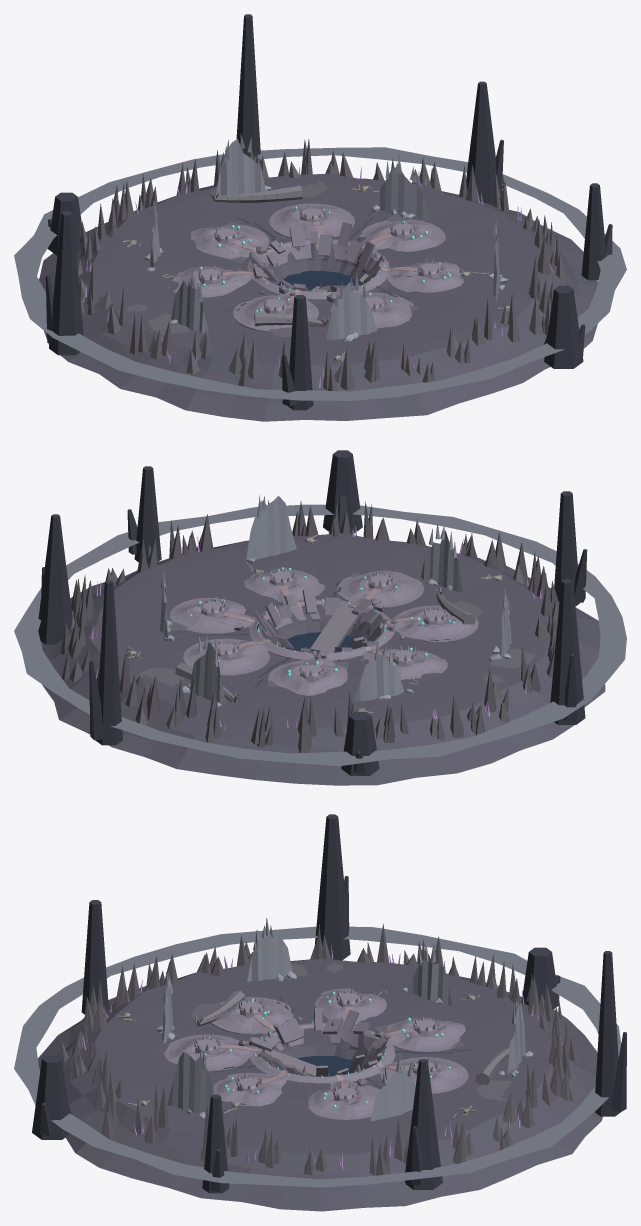
The model's file is arena_noctyss.glb.
3 views of the same model, one above another, from view 1: azimuth 30°, elevation 25°; view 2: azimuth 150°, elevation 25°; view 3: azimuth 270°, elevation 25° (orthographic).
Visible parts, largest first — view 1: NoctyssArena_Base, NoctyssArena_Stacks, NoctyssArena_Foam, NoctyssArena_Teeth, NoctyssArena_Mantle, NoctyssArena_Fins, NoctyssArena_Rim, NoctyssArena_Elders, NoctyssArena_DecoSilt, NoctyssArena_DecoPitWater, NoctyssArena_DecoVeins, NoctyssArena_GlowKelp; view 2: NoctyssArena_Base, NoctyssArena_Stacks, NoctyssArena_Foam, NoctyssArena_Teeth, NoctyssArena_Mantle, NoctyssArena_Fins, NoctyssArena_Rim, NoctyssArena_DecoSilt, NoctyssArena_Slab, NoctyssArena_Elders, NoctyssArena_DecoVeins, NoctyssArena_DecoPitWater; view 3: NoctyssArena_Base, NoctyssArena_Stacks, NoctyssArena_Teeth, NoctyssArena_Foam, NoctyssArena_Mantle, NoctyssArena_Fins, NoctyssArena_Rim, NoctyssArena_DecoSilt, NoctyssArena_Elders, NoctyssArena_DecoVeins, NoctyssArena_DecoPitWater, NoctyssArena_GlowKelp.
Boxes of the visible parts, left/top/right/bottom form: NoctyssArena_Base: left=38, top=174, right=597, bottom=421; NoctyssArena_Stacks: left=45, top=14, right=612, bottom=410; NoctyssArena_Foam: left=14, top=147, right=626, bottom=400; NoctyssArena_Teeth: left=77, top=139, right=566, bottom=391; NoctyssArena_Mantle: left=173, top=203, right=463, bottom=332; NoctyssArena_Fins: left=144, top=133, right=508, bottom=341; NoctyssArena_Rim: left=249, top=222, right=384, bottom=302; NoctyssArena_Elders: left=209, top=185, right=329, bottom=327; NoctyssArena_DecoSilt: left=127, top=180, right=419, bottom=337; NoctyssArena_DecoPitWater: left=277, top=270, right=355, bottom=290; NoctyssArena_DecoVeins: left=222, top=222, right=417, bottom=303; NoctyssArena_GlowKelp: left=83, top=164, right=555, bottom=387; NoctyssArena_Base: left=40, top=533, right=605, bottom=785; NoctyssArena_Stacks: left=38, top=450, right=587, bottom=775; NoctyssArena_Foam: left=14, top=504, right=626, bottom=766; NoctyssArena_Teeth: left=60, top=500, right=559, bottom=752; NoctyssArena_Mantle: left=169, top=568, right=478, bottom=695; NoctyssArena_Fins: left=160, top=495, right=511, bottom=706; NoctyssArena_Rim: left=234, top=589, right=404, bottom=659; NoctyssArena_DecoSilt: left=136, top=573, right=535, bottom=686; NoctyssArena_Slab: left=310, top=605, right=360, bottom=652; NoctyssArena_Elders: left=175, top=587, right=475, bottom=703; NoctyssArena_DecoVeins: left=223, top=585, right=422, bottom=666; NoctyssArena_DecoPitWater: left=280, top=632, right=361, bottom=652; NoctyssArena_Base: left=38, top=958, right=602, bottom=1211; NoctyssArena_Stacks: left=32, top=814, right=626, bottom=1193; NoctyssArena_Teeth: left=59, top=923, right=579, bottom=1183; NoctyssArena_Foam: left=14, top=926, right=621, bottom=1187; NoctyssArena_Mantle: left=164, top=988, right=468, bottom=1120; NoctyssArena_Fins: left=156, top=917, right=533, bottom=1121; NoctyssArena_Rim: left=238, top=1008, right=389, bottom=1085; NoctyssArena_DecoSilt: left=191, top=962, right=512, bottom=1100; NoctyssArena_Elders: left=193, top=991, right=509, bottom=1084; NoctyssArena_DecoVeins: left=220, top=1006, right=414, bottom=1087; NoctyssArena_DecoPitWater: left=296, top=1055, right=361, bottom=1076; NoctyssArena_GlowKelp: left=79, top=945, right=563, bottom=1170.
Size of the model in its own units: 183 by 55.5 by 181.
